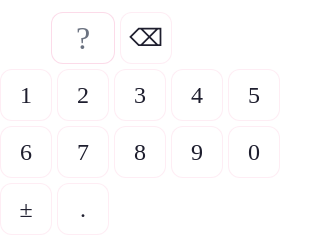
Test: NumberPad allowNegative › maxDigits={2} with allowNegative={true}: can type "-99" (2 significant digits)
The width and height of the screenshot is (320, 252).
Use testID for digit keys to avoid collision with display showing the same digit
Click the element with test id "numpad-key-9" at (197, 152), box x1=171 y1=126 x2=223 y2=178
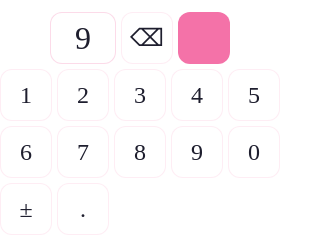
Click the element with test id "numpad-key-9" at (197, 152), box x1=171 y1=126 x2=223 y2=178
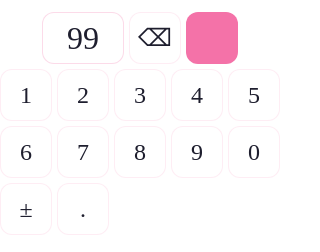
Click the element with test id "key-plus-minus" at (26, 209), box x1=0 y1=183 x2=52 y2=235
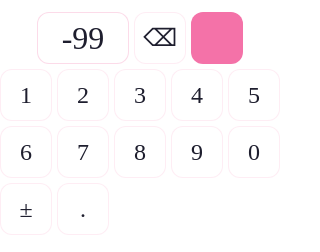
Expected: the text with test id "numberpad-display" reads "-99", x1=62 y1=20 x2=104 y2=56
